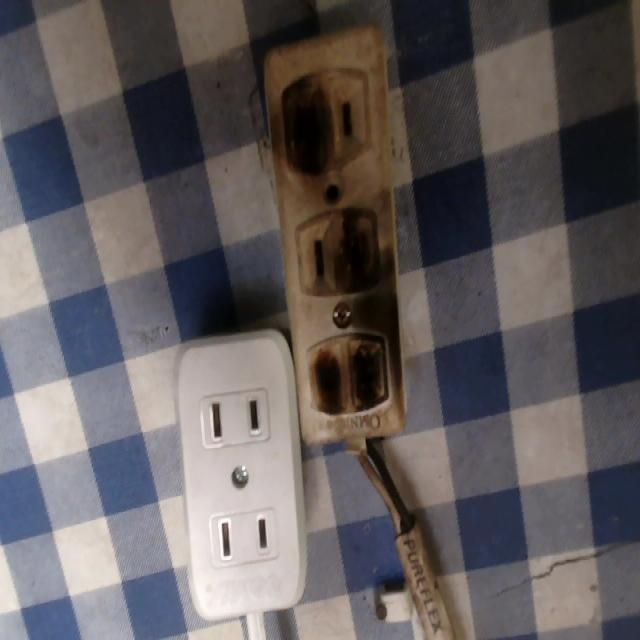-: (302, 340, 395, 411), (276, 83, 337, 180), (336, 212, 380, 277)
